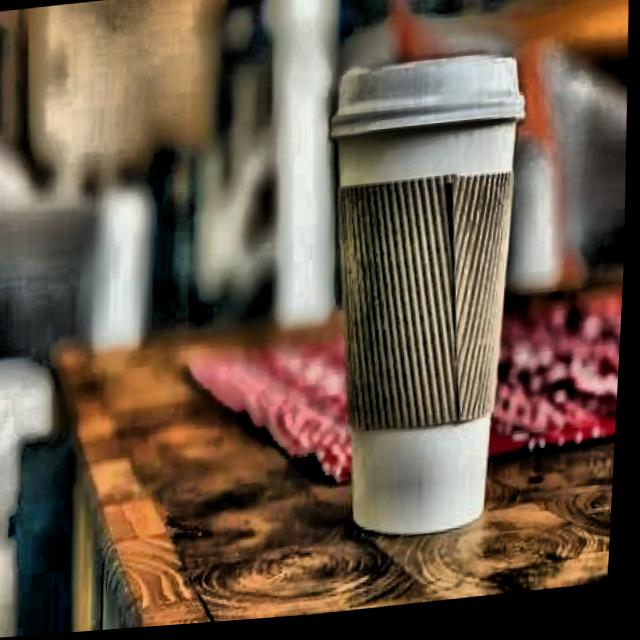Cup: (307, 38, 541, 554)
